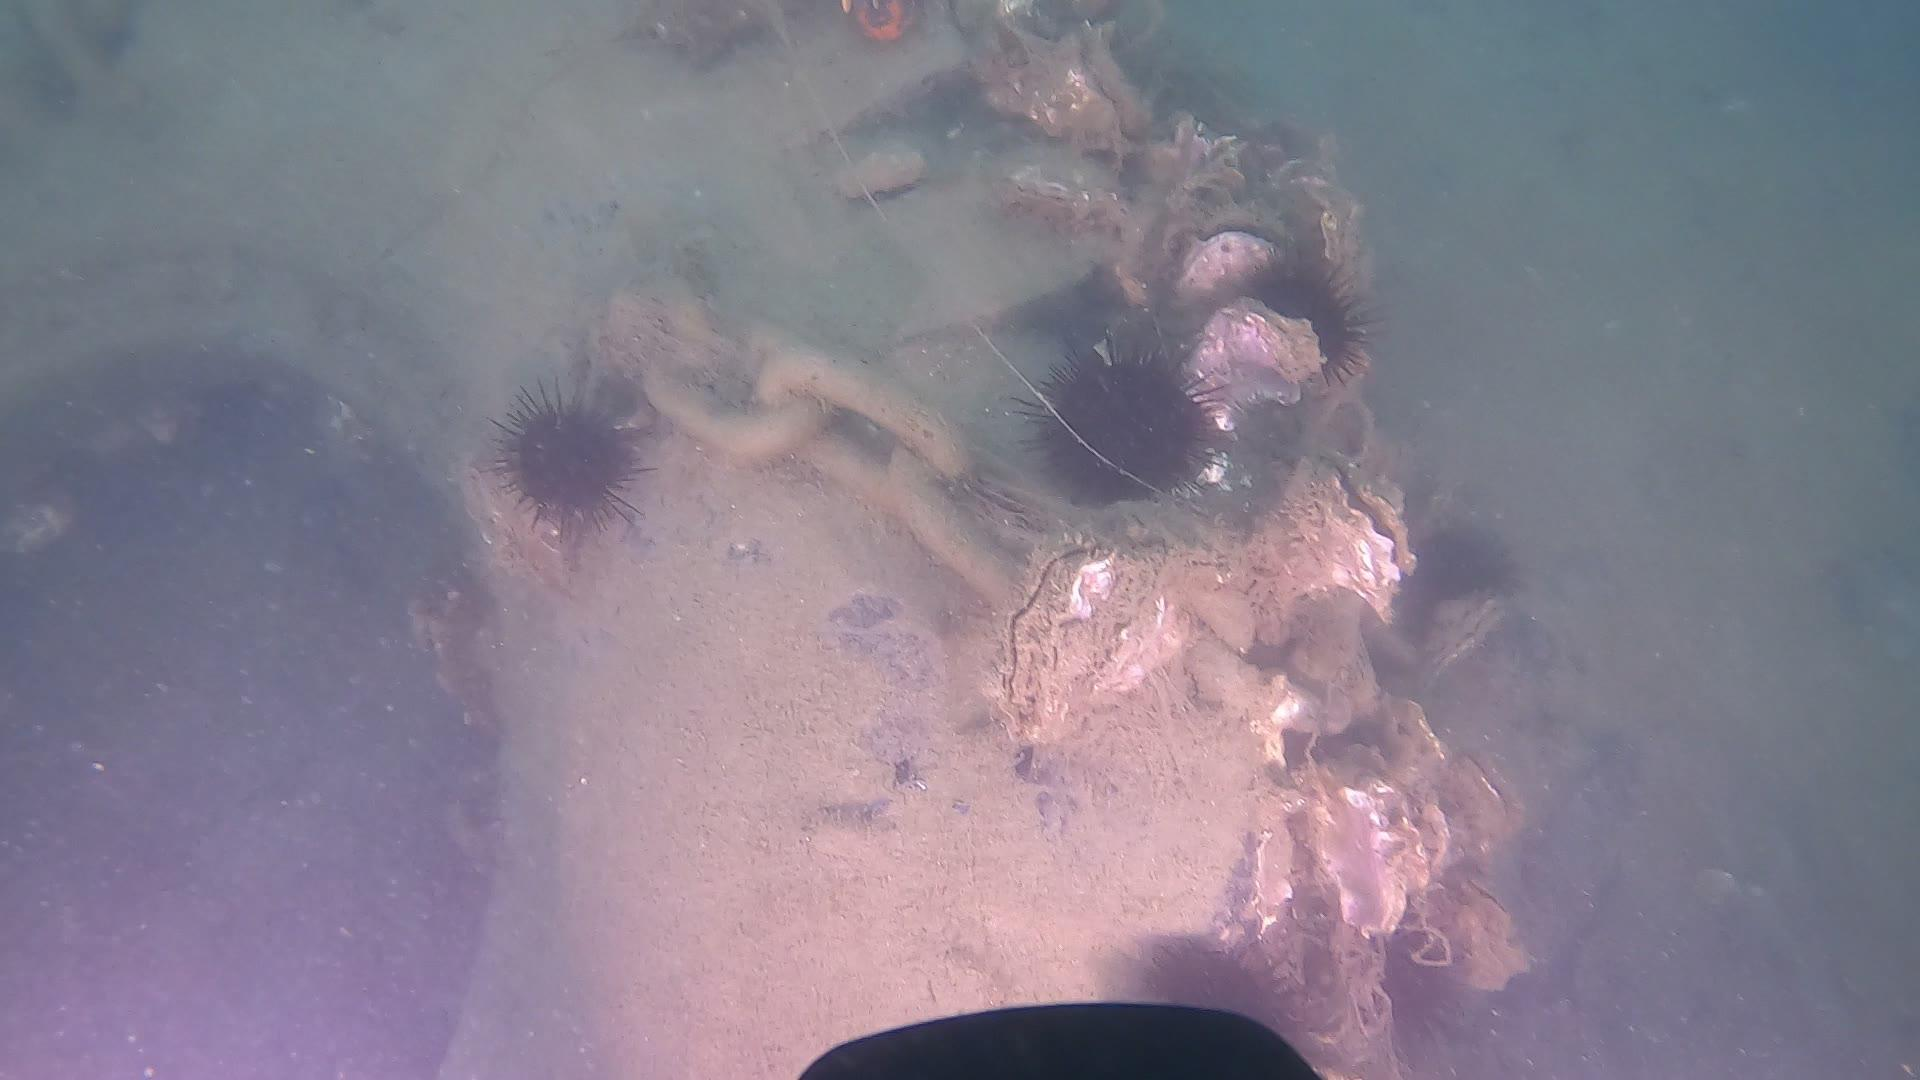tire: (0, 0, 1267, 1080)
